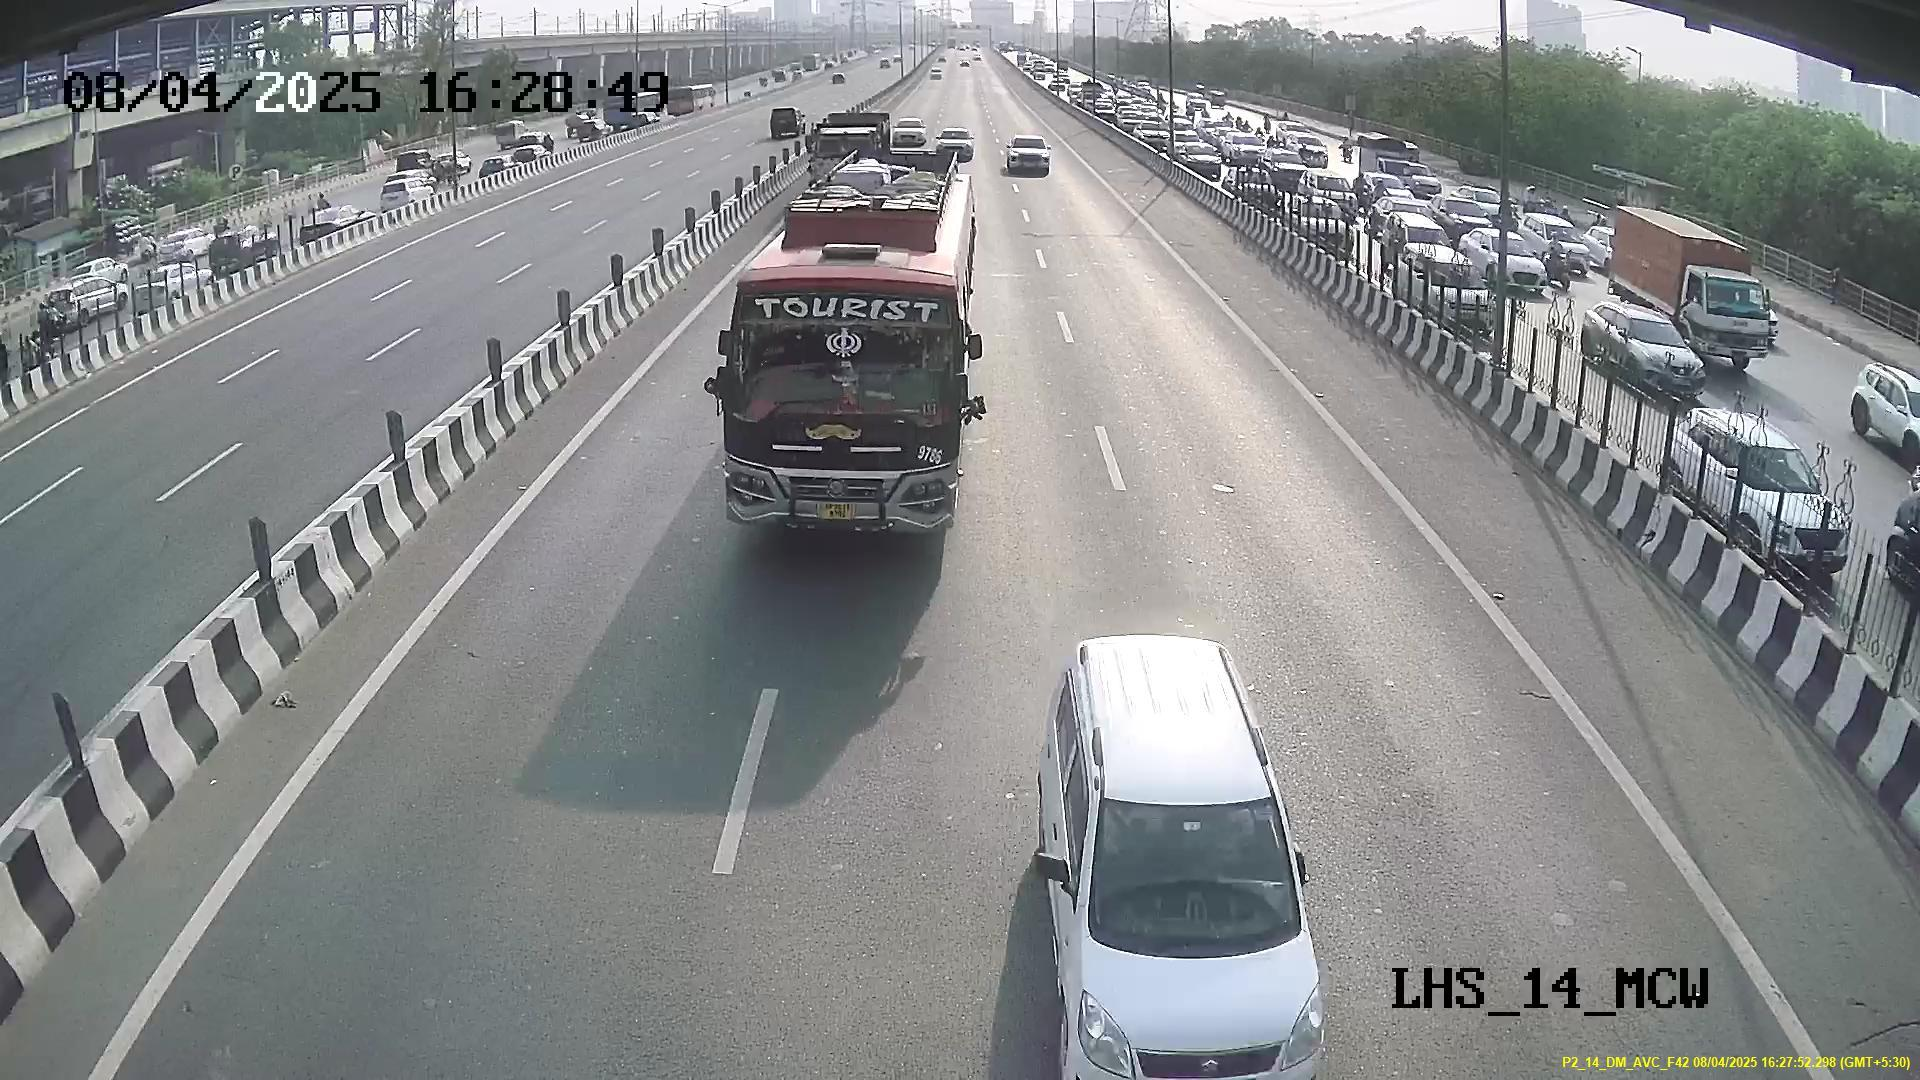bus: (713, 191, 988, 547)
car: (1033, 625, 1327, 1080)
